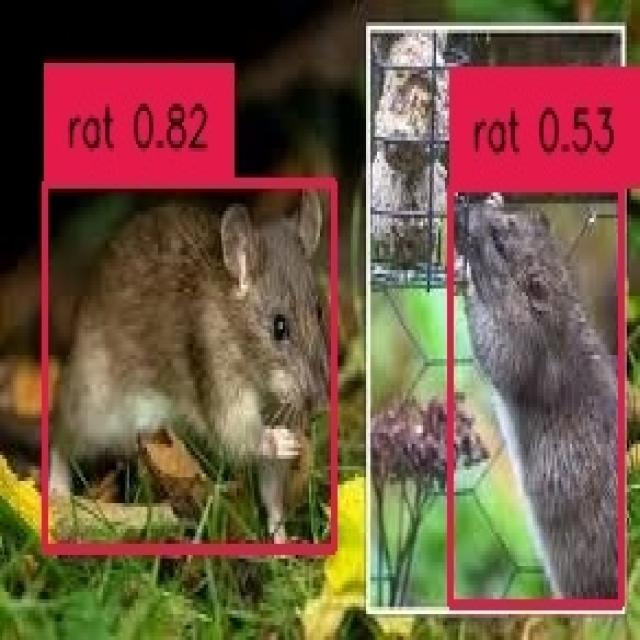rat: (42, 177, 331, 544), (447, 182, 618, 600)
